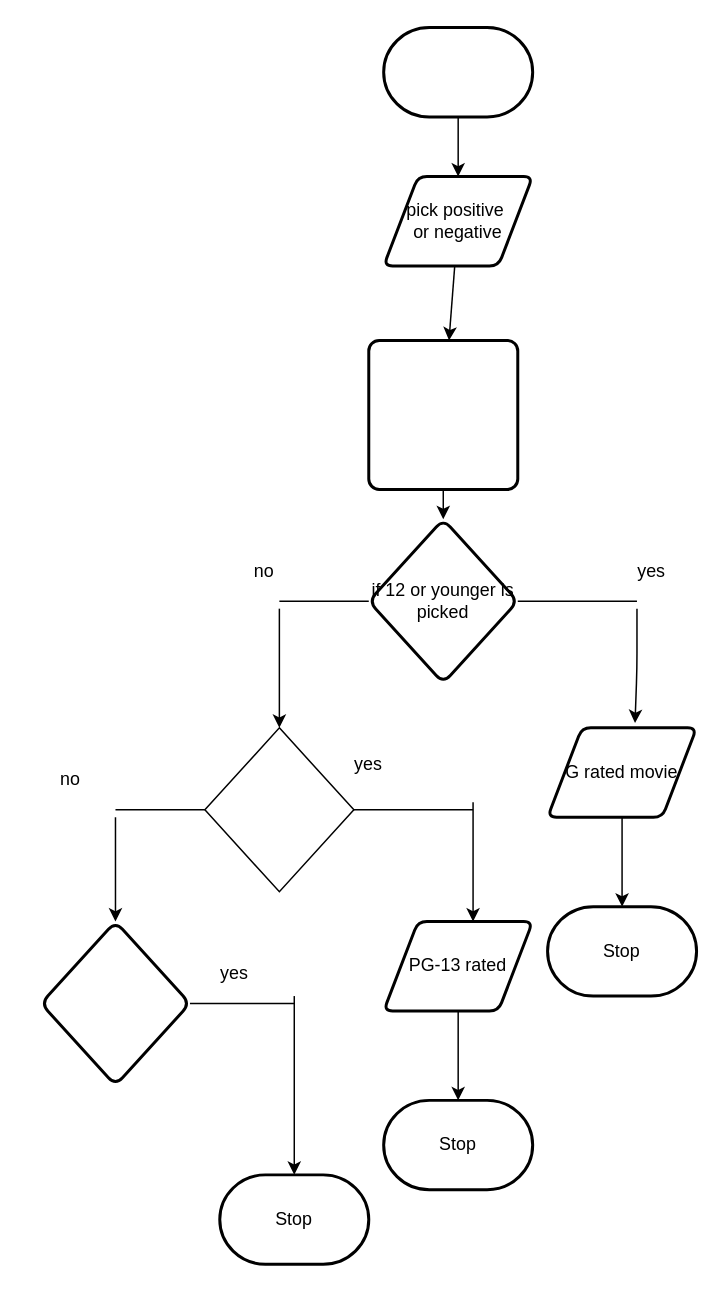
This 723x1290 diagram has some shape labels left out. The centre of each missing label's shape, as x and y in pixels:
creates a random number from 1-6 and -1 - -6: the point at 443,414
if 13 to 16 is picked: the point at 278,809
if 17+ is picked: the point at 115,1002
Start: the point at 457,71
